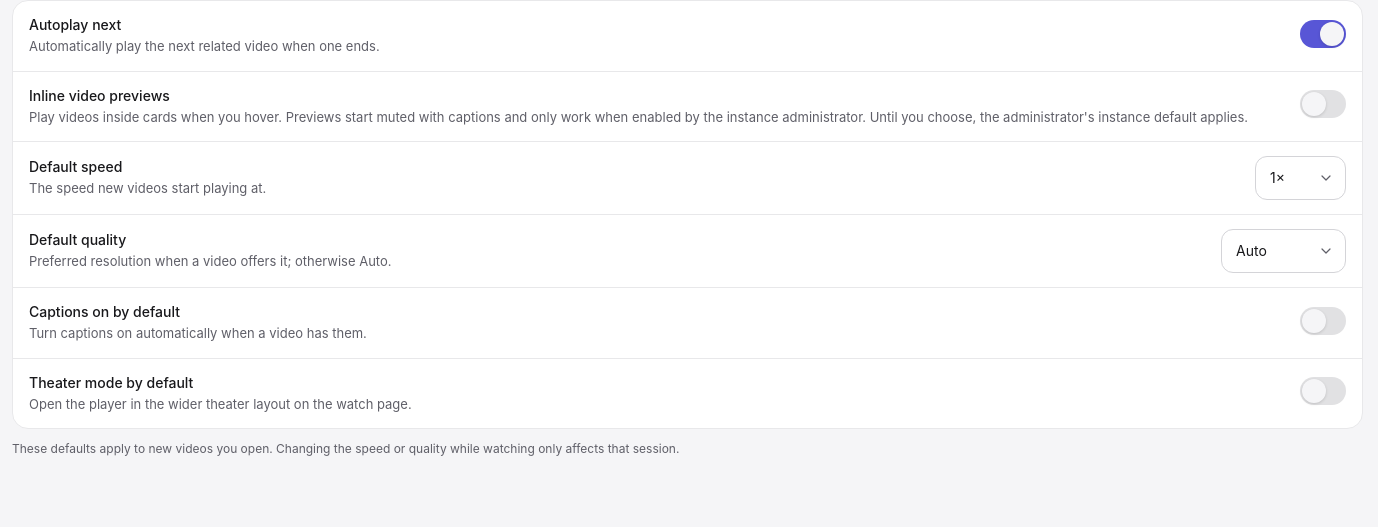
Scenario: PlayerSettingsView › reverts the control and shows an error when the save fails
Step 1. Click the switch named "Captions on by default" → (1323, 321), box x1=1300 y1=307 x2=1346 y2=335
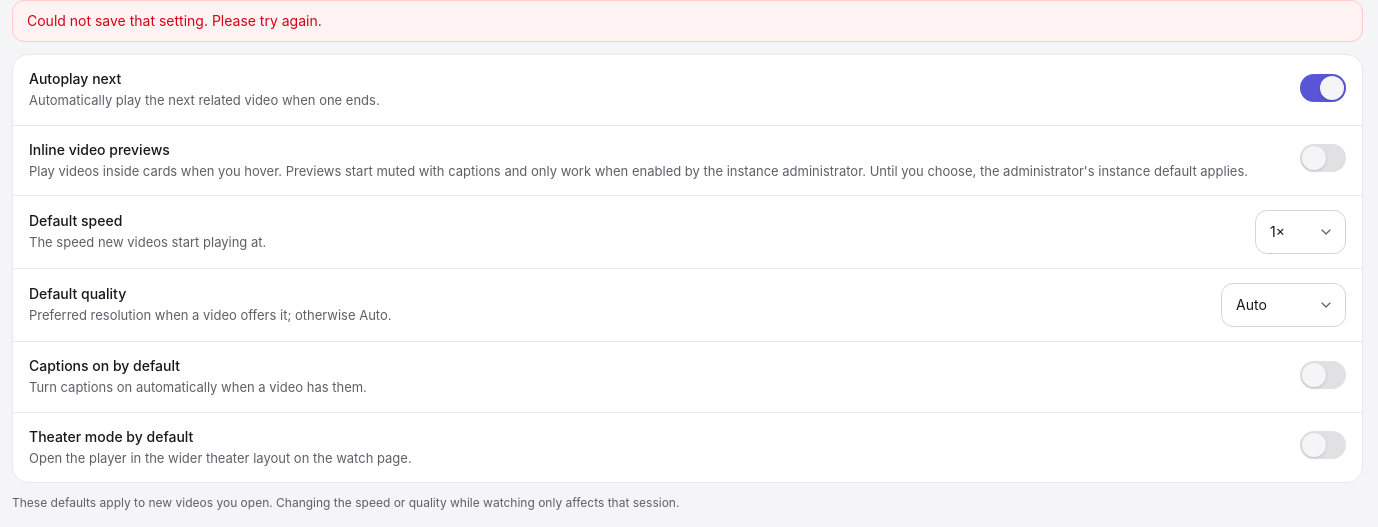
Expected: the message "Could not save that setting. Please try again." is shown, x1=12 y1=0 x2=1363 y2=42
